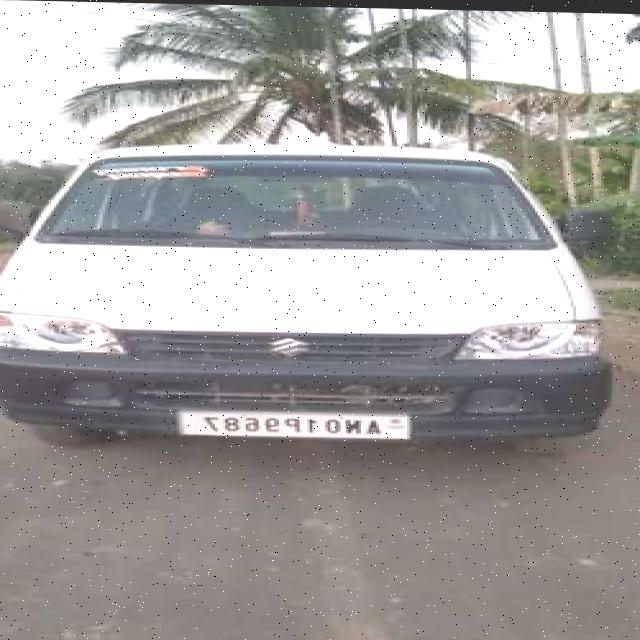plate: (177, 409, 412, 441)
